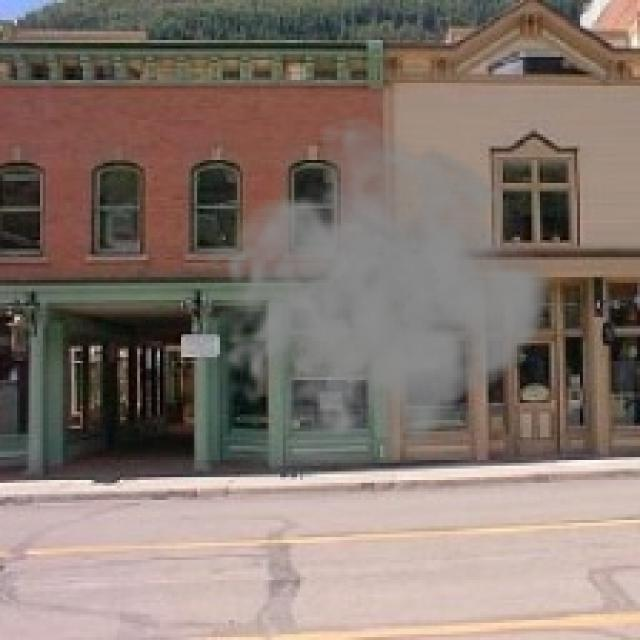smoke: (203, 111, 557, 472)
